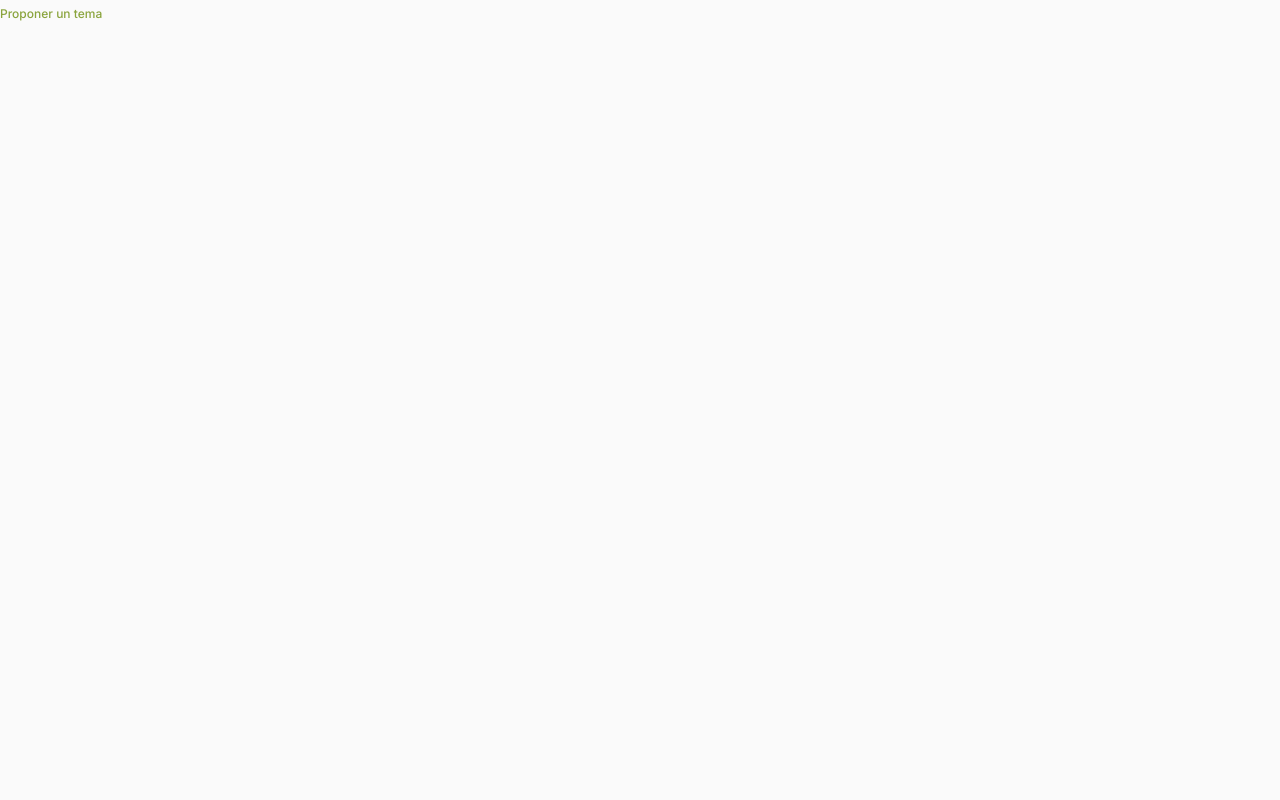
Scenario: waits for persistence and prevents double submit
The image size is (1280, 800).
Later steps or results of the test are not shown.
Click the button "Proponer un tema": (51, 14) 0,0 -> 102,28
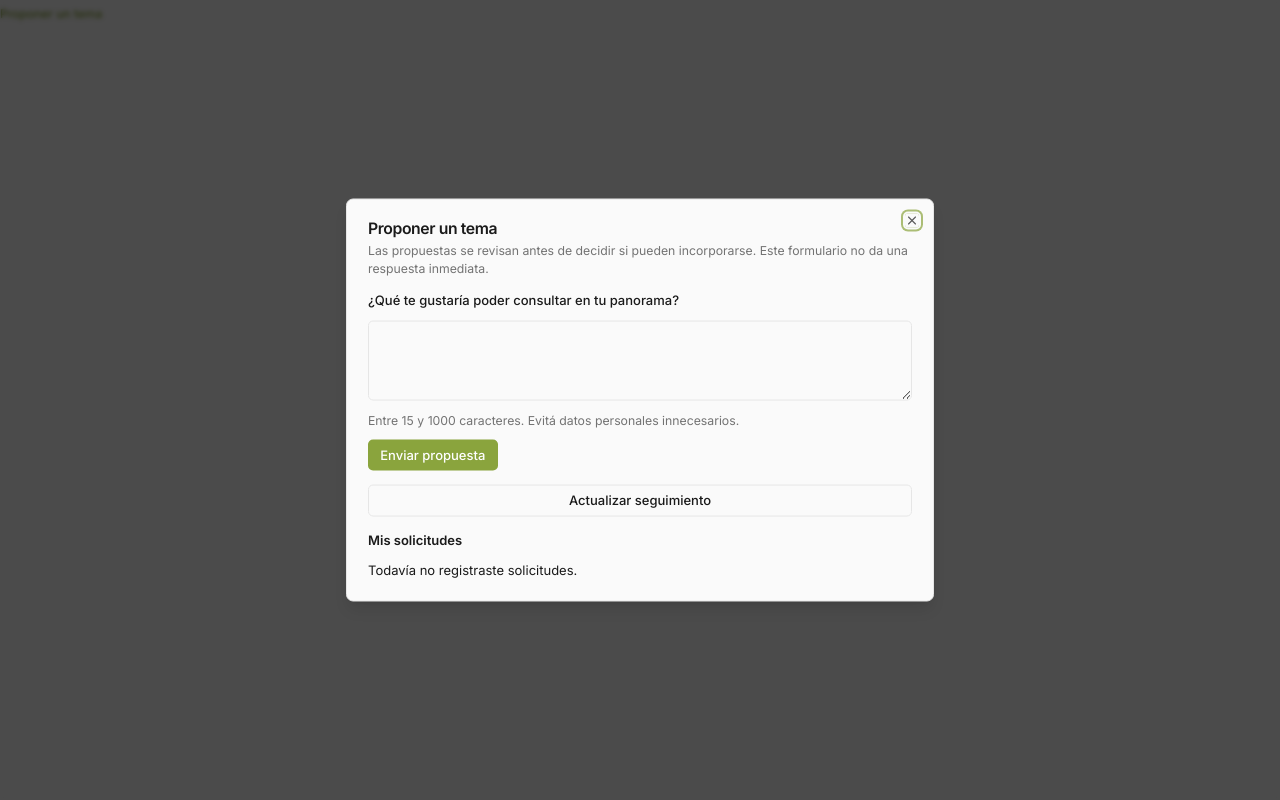
Result: the text "Todavía no registraste solicitudes." is shown at 368,561 -> 577,577
In the text box labelled "¿Qué te gustaría poder consultar en tu panorama?": (640, 360) 368,320 -> 912,400, type "Comparar ventas por semana"
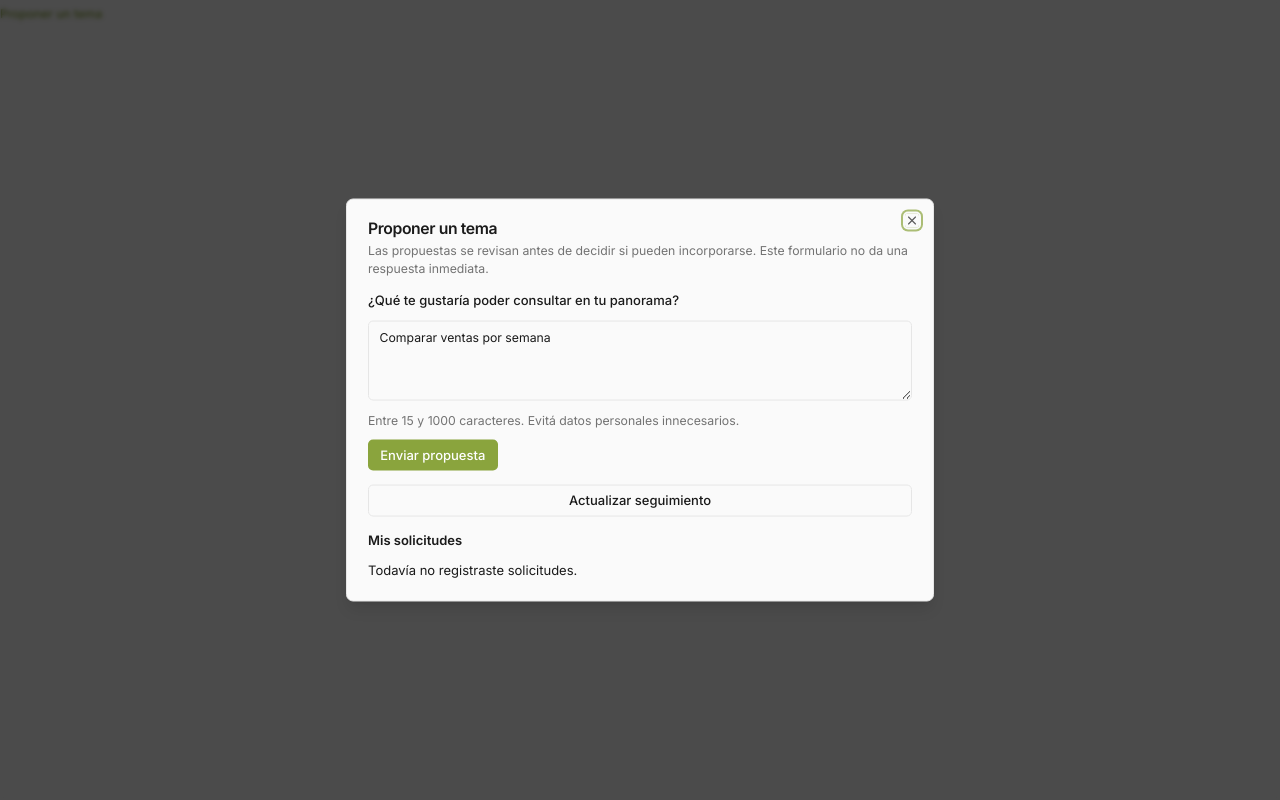
Click the button "Enviar propuesta": (433, 455) 368,439 -> 498,470
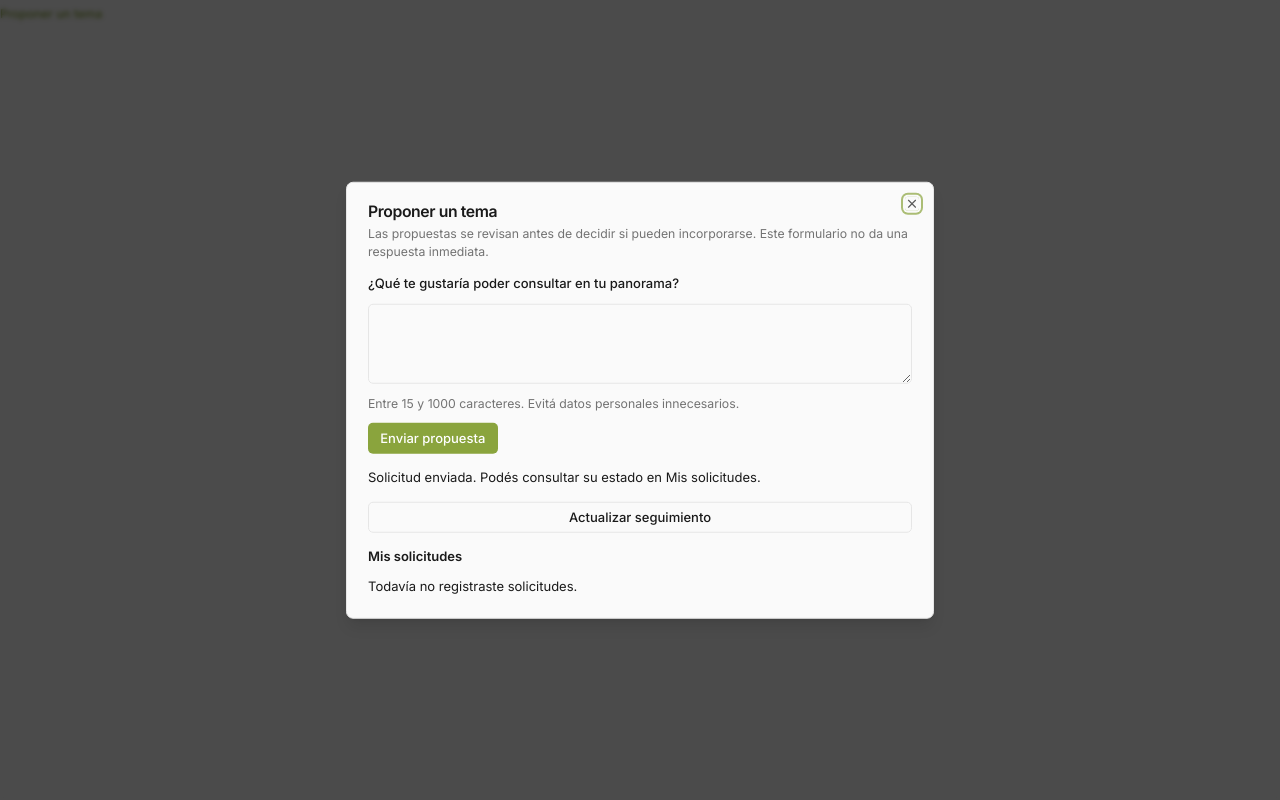
Result: the text "Solicitud enviada. Podés consultar su estado en Mis solicitudes." is shown at 368,469 -> 761,485
